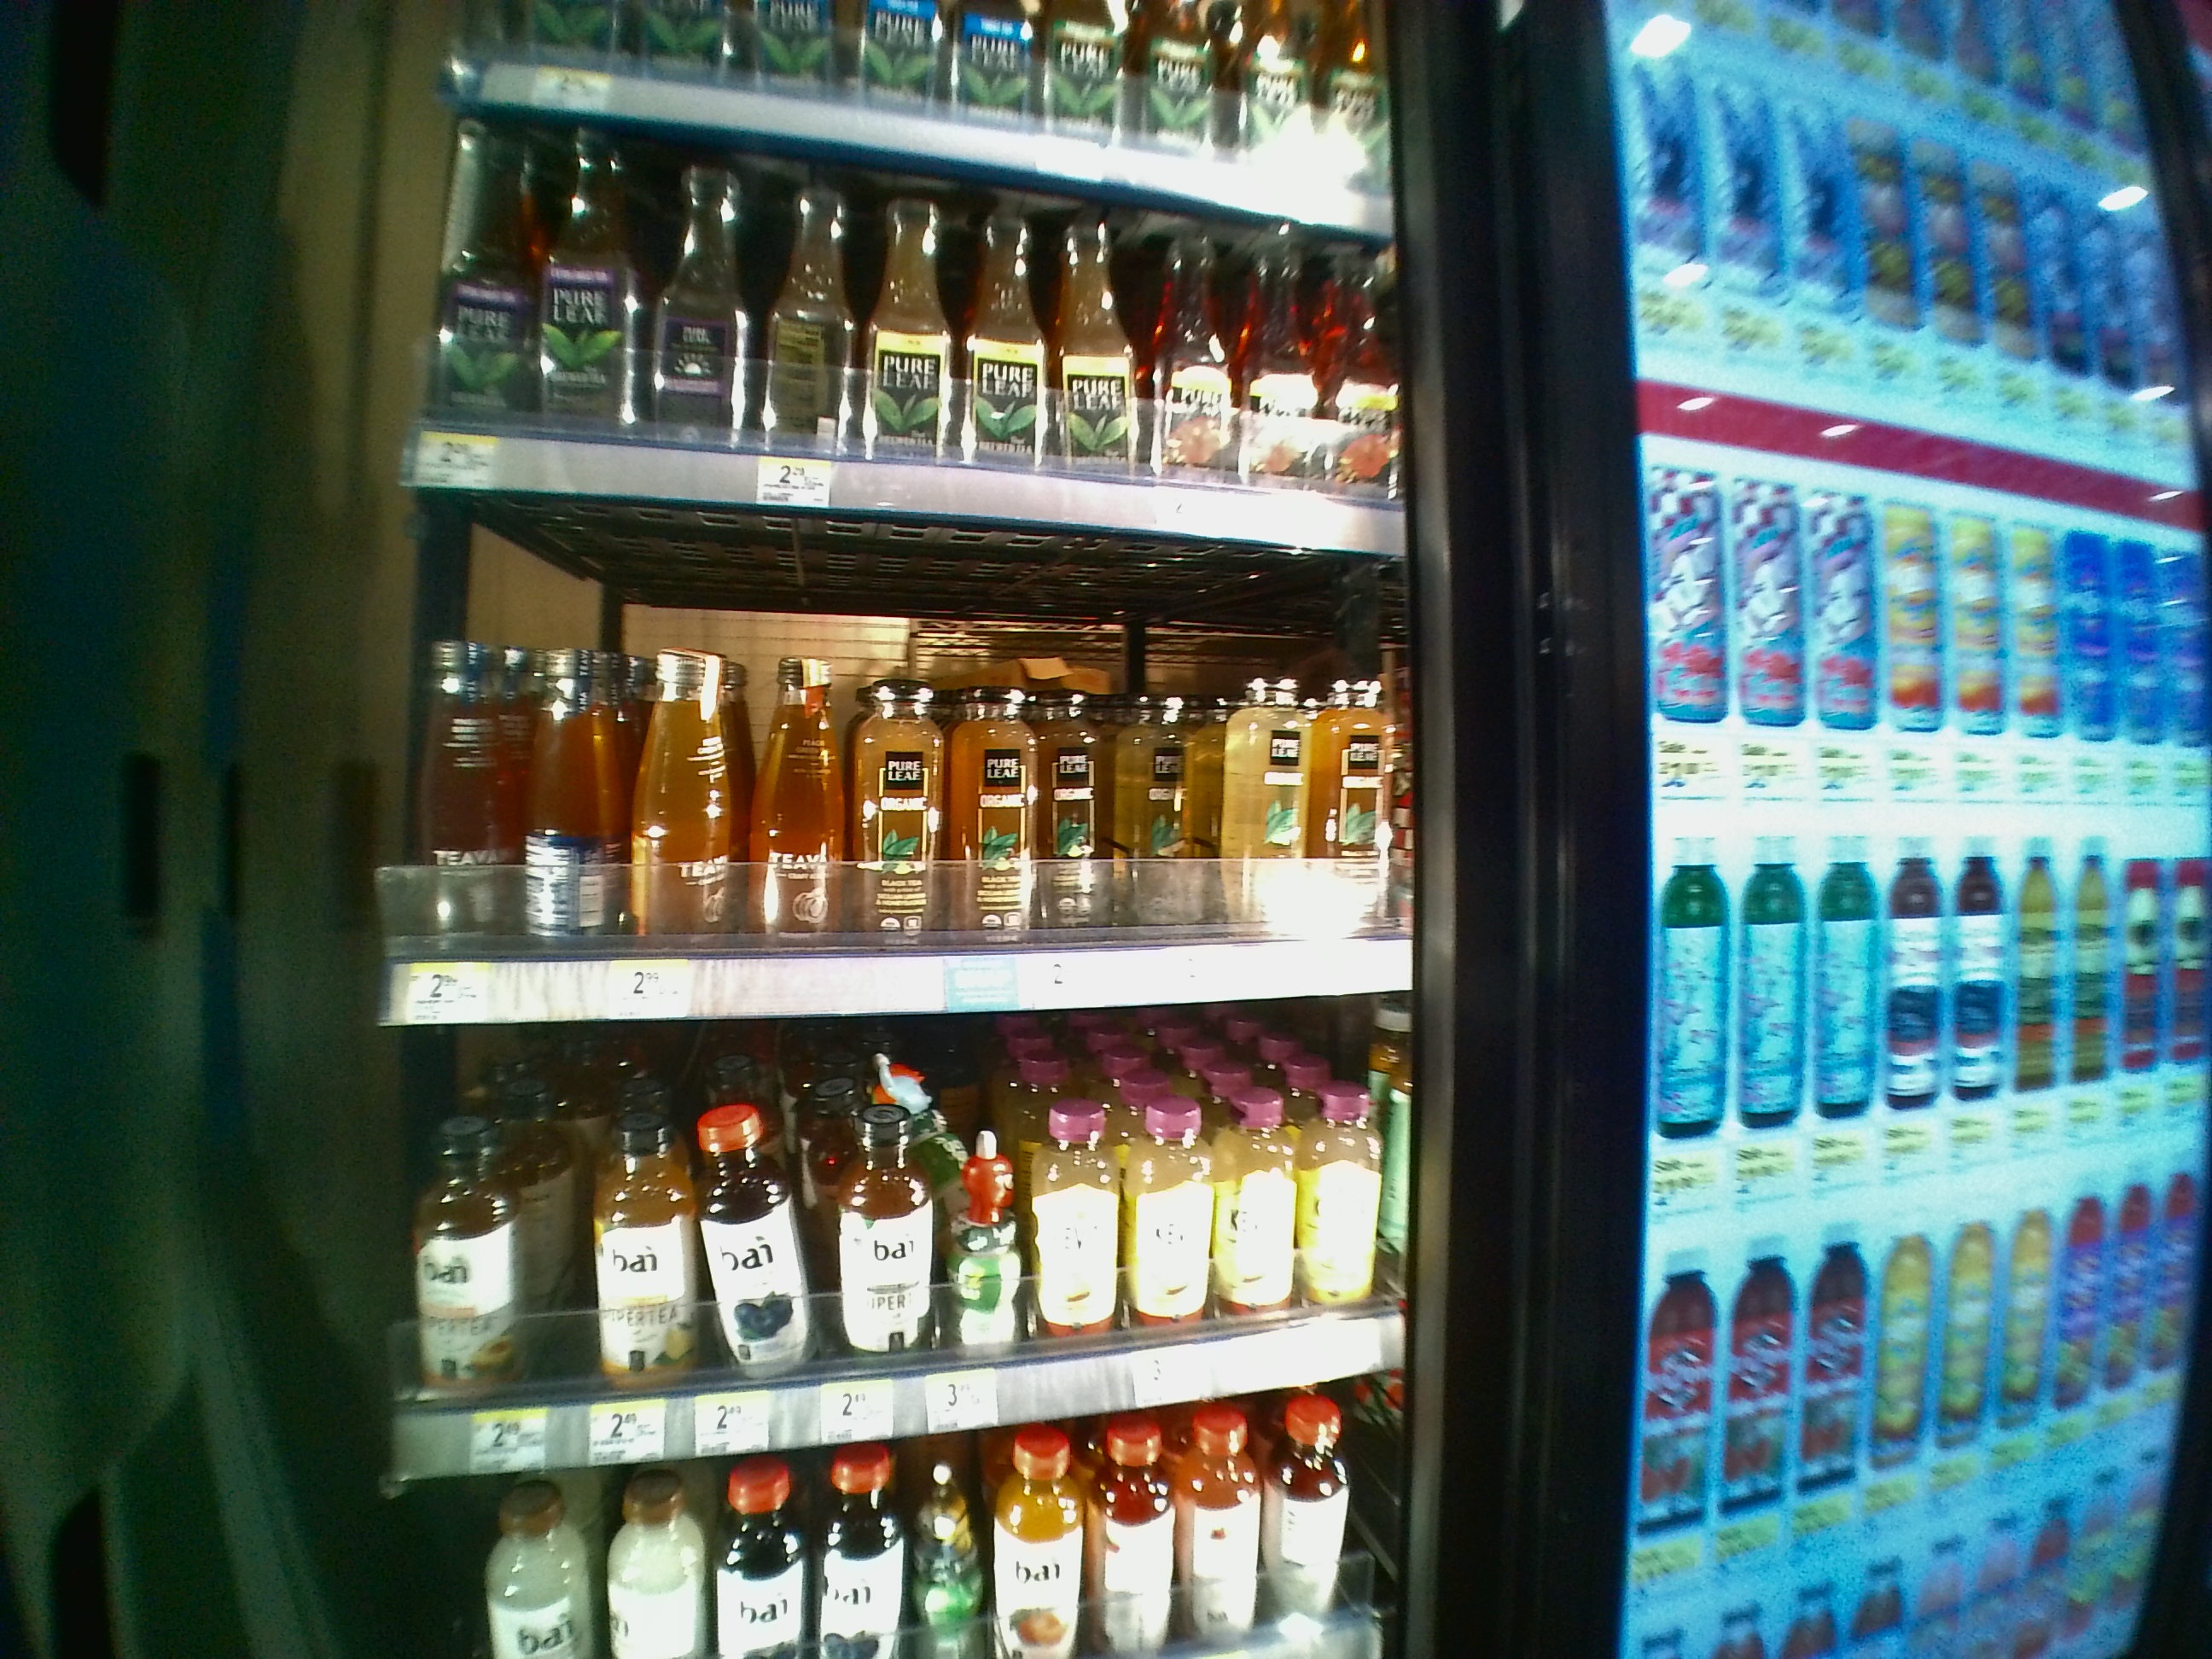shelf: (383, 488, 1416, 1019), (383, 1035, 1420, 1464)
